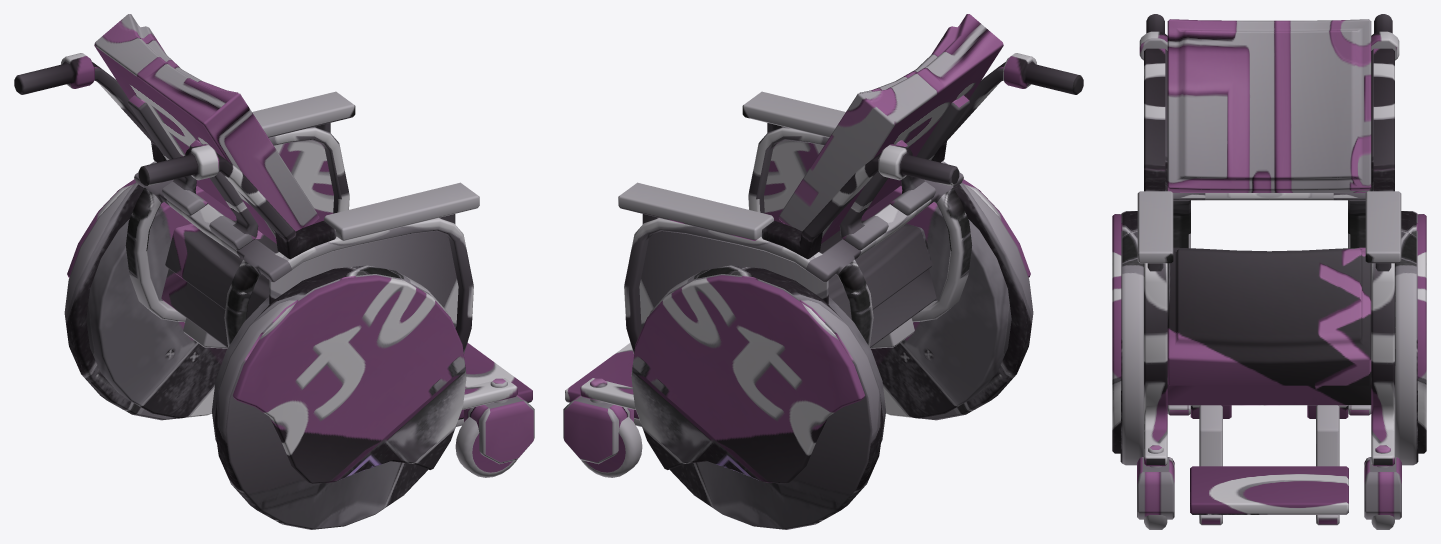
The model's file is SM_MedicalWheelChair.fbx.
3 renders of one model, left to right at view 1: azimuth 30°, elevation 25°; view 2: azimuth 150°, elevation 25°; view 3: azimuth 270°, elevation 25°, orthographic. The views are drawn at different scales.
Visible parts, largest first — view 1: MWC Big Wheels Frame, MWC Big Wheels, MWC Main Frame, MWC Back Rest, MWC Arm Rests and Arm Grippers, MWC Sides, MWC Butt Rest (aka seat), MWC Small Wheels, MWC Paw Rest; view 2: MWC Big Wheels Frame, MWC Big Wheels, MWC Main Frame, MWC Back Rest, MWC Arm Rests and Arm Grippers, MWC Sides, MWC Butt Rest (aka seat), MWC Small Wheels, MWC Paw Rest; view 3: MWC Back Rest, MWC Butt Rest (aka seat), MWC Main Frame, MWC Big Wheels, MWC Paw Rest, MWC Arm Rests and Arm Grippers, MWC Small Wheels, MWC Big Wheels Frame, MWC Leg Rest holders.
Boxes of the visible parts, left/top/right/bottom form: MWC Big Wheels Frame: left=67, top=179, right=466, bottom=483; MWC Big Wheels: left=64, top=182, right=448, bottom=529; MWC Main Frame: left=92, top=62, right=517, bottom=426; MWC Back Rest: left=94, top=14, right=319, bottom=243; MWC Arm Rests and Arm Grippers: left=14, top=53, right=479, bottom=240; MWC Sides: left=196, top=140, right=458, bottom=327; MWC Butt Rest (aka seat): left=161, top=220, right=278, bottom=347; MWC Small Wheels: left=455, top=378, right=534, bottom=477; MWC Paw Rest: left=458, top=342, right=532, bottom=419; MWC Big Wheels Frame: left=631, top=179, right=1030, bottom=483; MWC Big Wheels: left=649, top=182, right=1033, bottom=529; MWC Main Frame: left=580, top=62, right=1005, bottom=426; MWC Back Rest: left=778, top=14, right=1003, bottom=243; MWC Arm Rests and Arm Grippers: left=618, top=53, right=1083, bottom=240; MWC Sides: left=639, top=140, right=901, bottom=327; MWC Butt Rest (aka seat): left=819, top=220, right=936, bottom=347; MWC Small Wheels: left=563, top=378, right=642, bottom=477; MWC Paw Rest: left=565, top=342, right=639, bottom=419; MWC Back Rest: left=1167, top=19, right=1371, bottom=192; MWC Butt Rest (aka seat): left=1167, top=247, right=1371, bottom=405; MWC Main Frame: left=1144, top=48, right=1394, bottom=525; MWC Big Wheels: left=1120, top=211, right=1418, bottom=465; MWC Paw Rest: left=1190, top=466, right=1348, bottom=514; MWC Arm Rests and Arm Grippers: left=1137, top=14, right=1401, bottom=271; MWC Small Wheels: left=1137, top=445, right=1401, bottom=529; MWC Big Wheels Frame: left=1112, top=214, right=1426, bottom=453; MWC Leg Rest holders: left=1190, top=405, right=1348, bottom=418.
Bounding box in the file's own units: 91.53 × 66.26 × 92.71.
